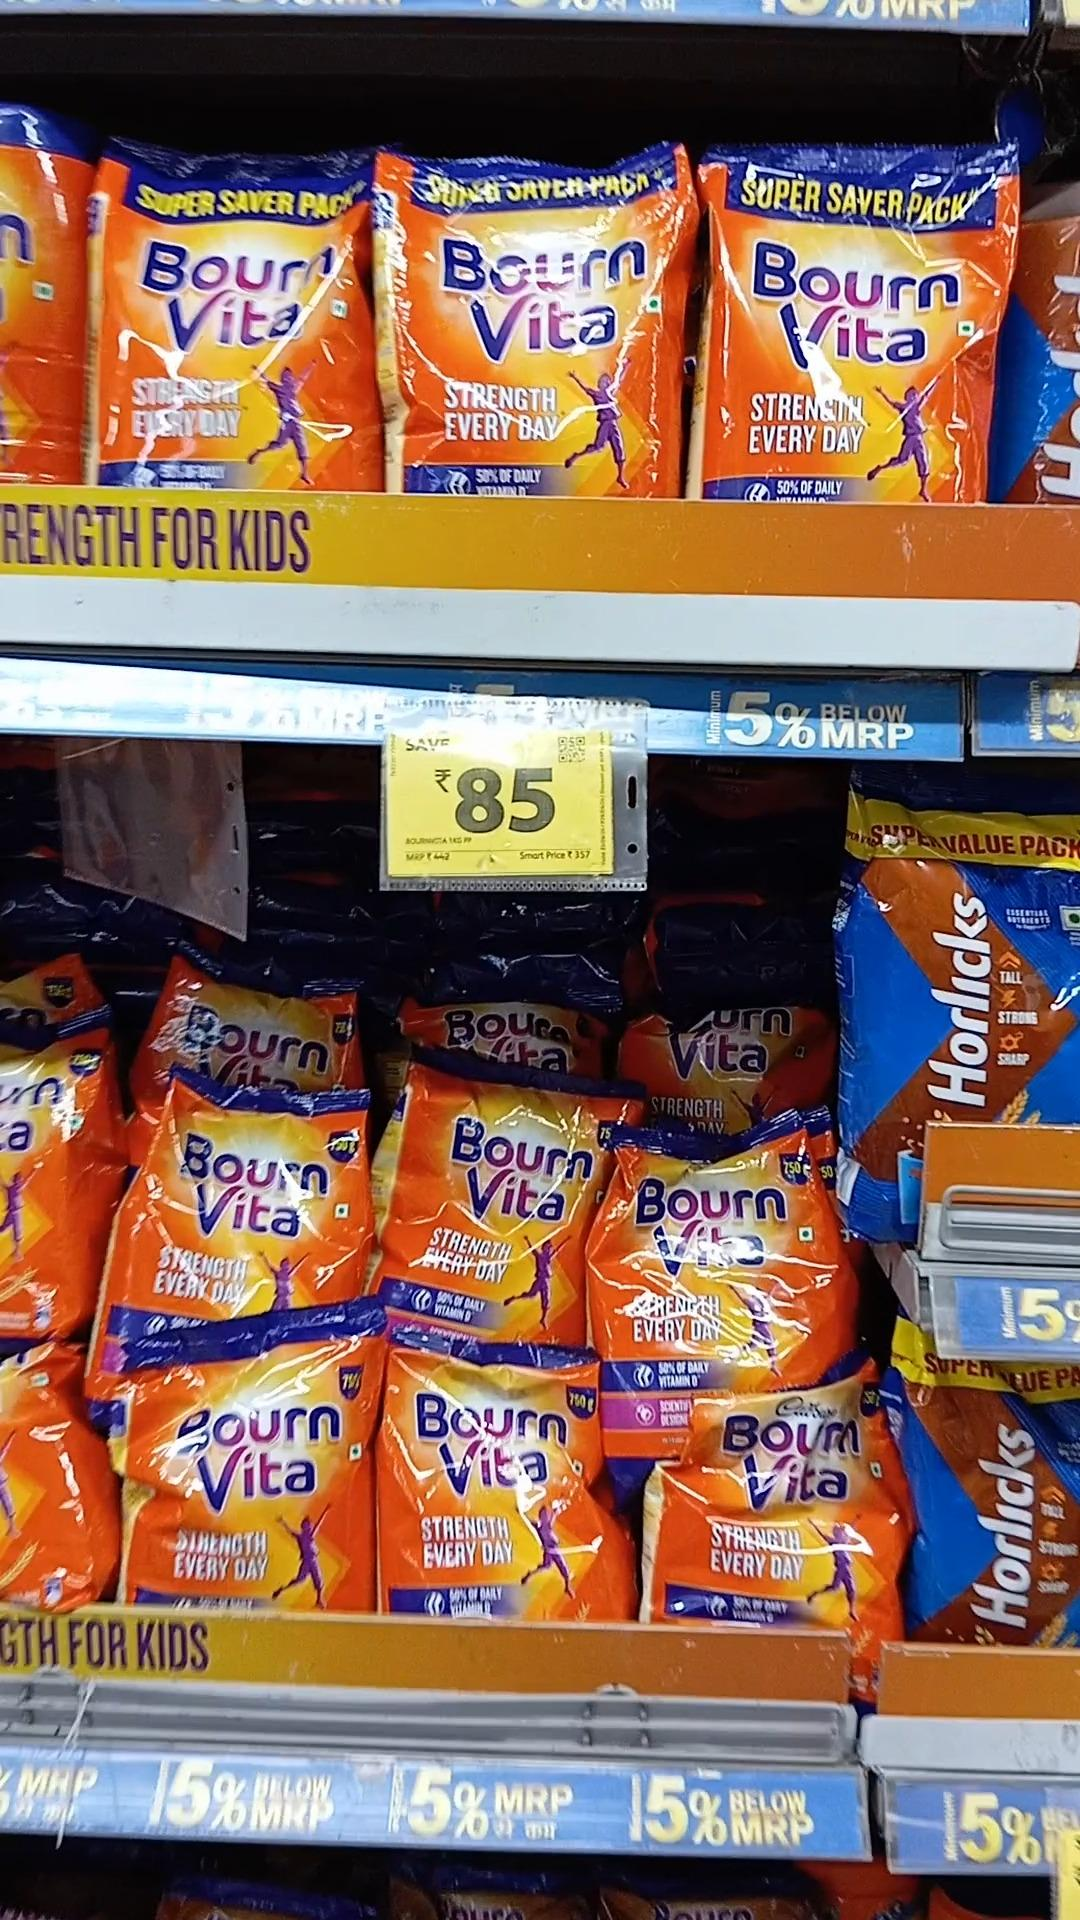BOURN_VITA_750_G_POUCH: (132, 1332, 367, 1606), (386, 1344, 604, 1619), (604, 1118, 833, 1374), (676, 1374, 895, 1638), (396, 1058, 580, 1344), (144, 1083, 363, 1320)
HORLICK_CHOCOLATE_750_G_POUCH: (856, 767, 1077, 1146), (906, 1335, 1076, 1650)
